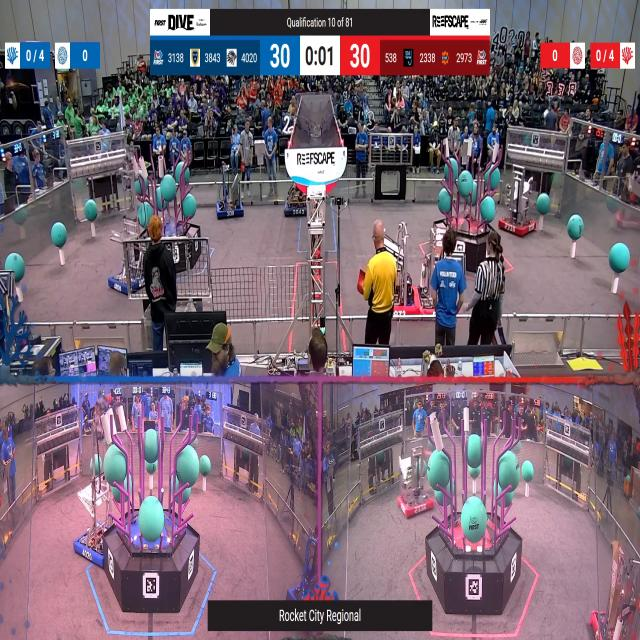scoreboard: (151, 35, 489, 74)
